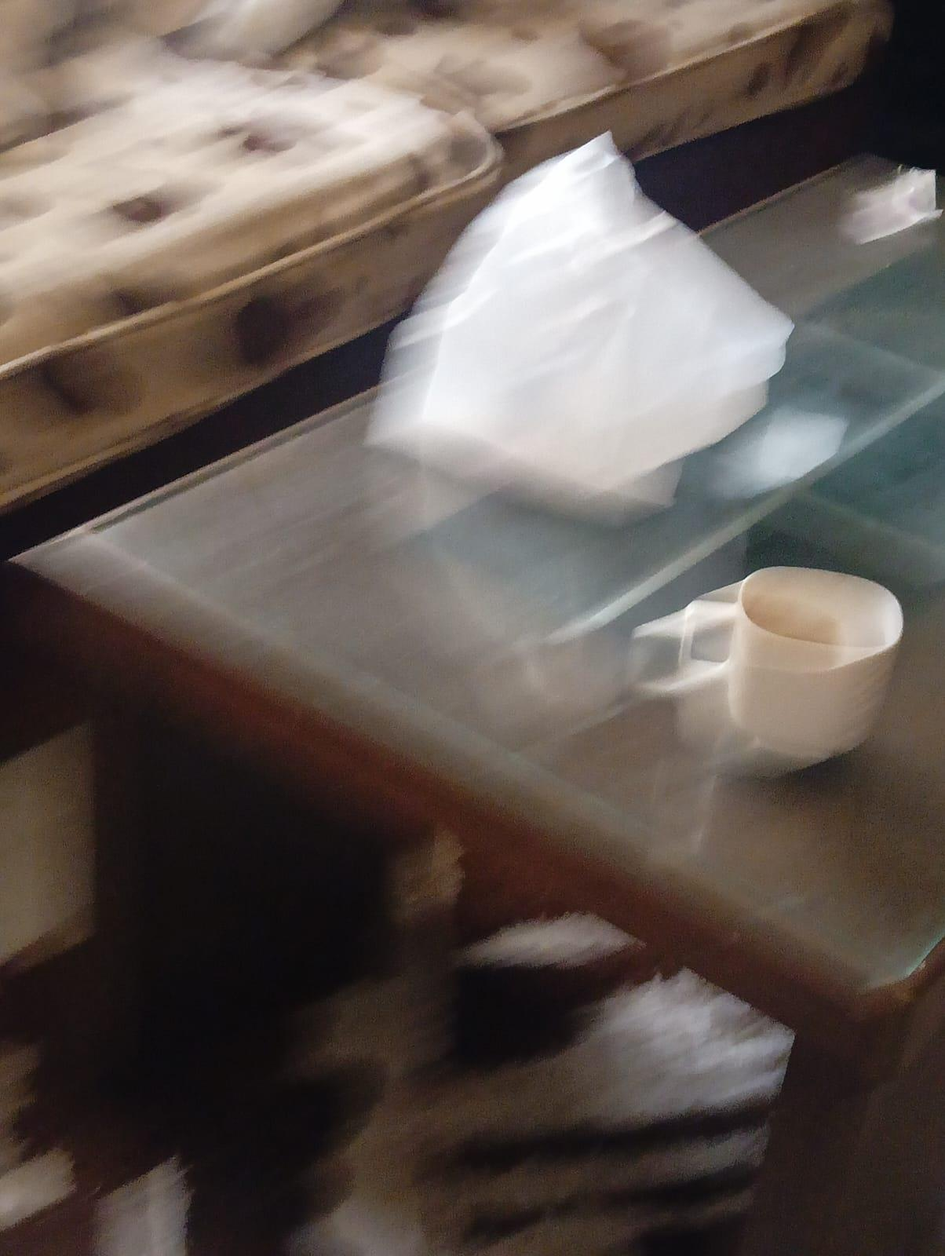cup: (635, 568, 902, 765)
